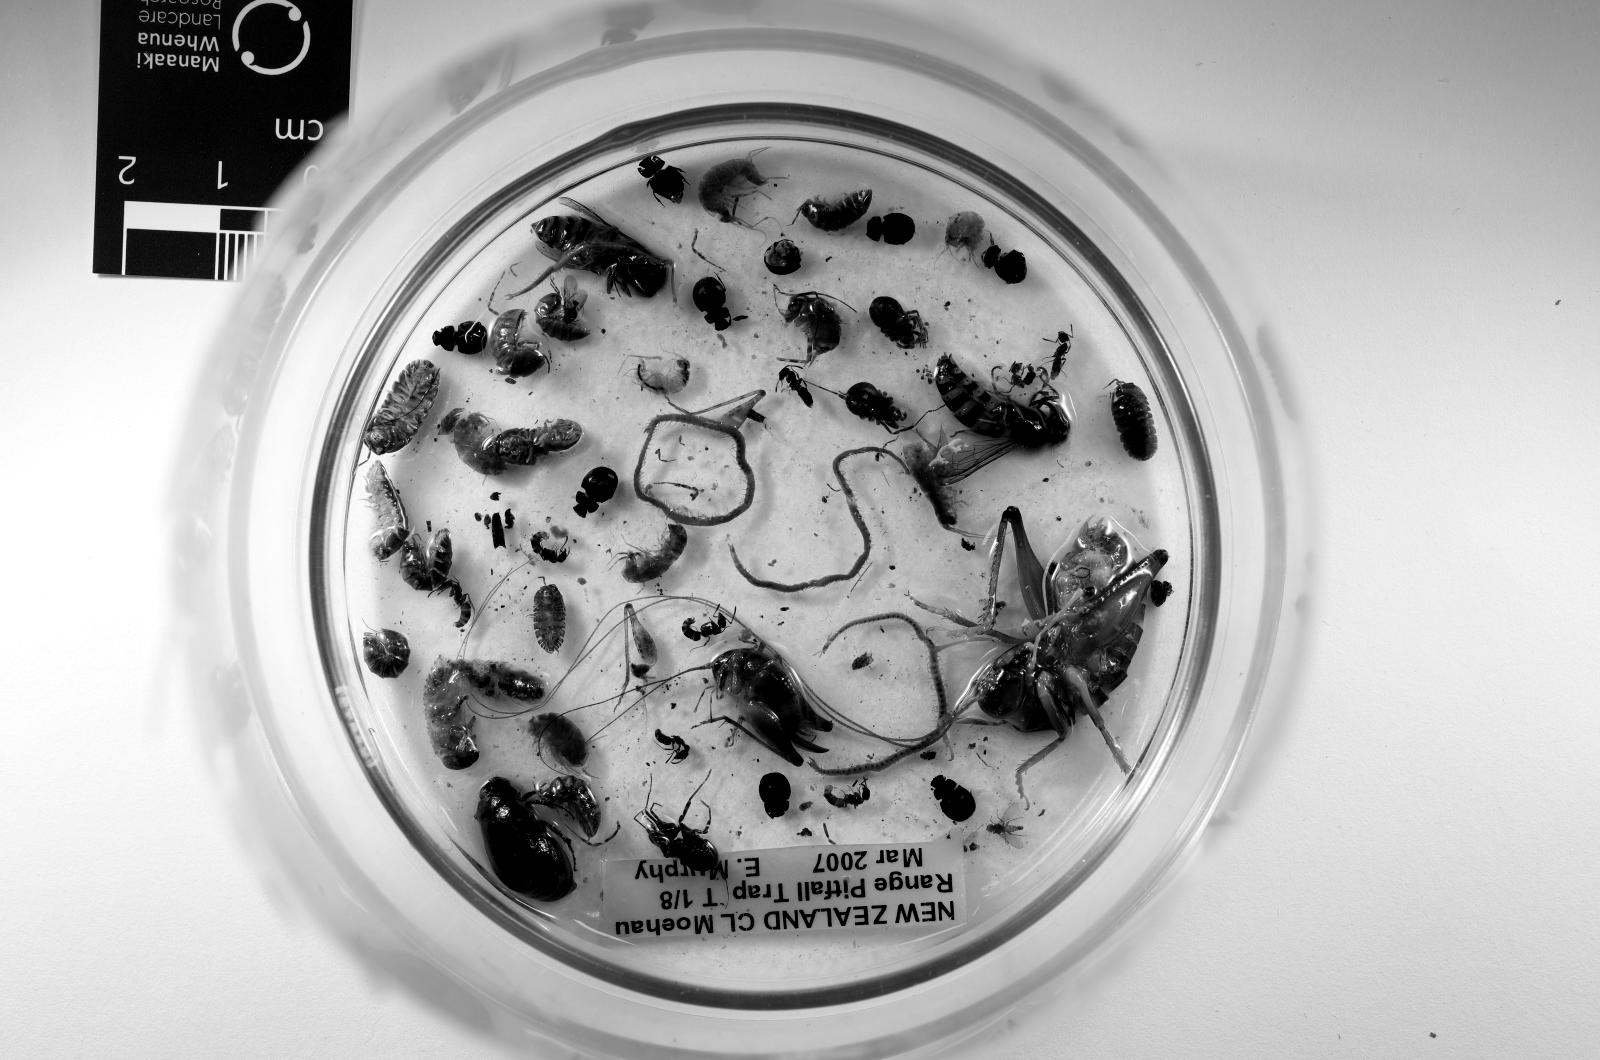acari: (800, 801, 812, 811)
amphipoda: (697, 152, 781, 230), (903, 438, 966, 534), (619, 525, 688, 584), (528, 711, 588, 770), (453, 413, 506, 475), (634, 357, 691, 394), (944, 211, 984, 258)
chilopoda: (731, 447, 909, 593), (809, 612, 950, 776), (634, 413, 756, 525)
coleoptera: (475, 776, 575, 901), (638, 155, 684, 205), (694, 276, 734, 332), (575, 466, 619, 516), (931, 776, 975, 823), (981, 245, 1028, 283), (431, 323, 488, 354), (866, 211, 916, 245), (759, 773, 791, 817), (919, 748, 938, 761)
diptera: (984, 801, 1025, 848), (562, 276, 588, 320)
formicidae: (438, 578, 472, 627), (778, 366, 812, 407), (681, 612, 728, 640), (656, 730, 691, 764), (531, 531, 569, 562), (1050, 326, 1072, 379), (825, 783, 872, 807), (1009, 363, 1038, 388)
isopoda: (366, 360, 441, 453), (525, 776, 600, 838), (366, 463, 409, 562), (494, 419, 581, 466), (491, 311, 547, 379), (1109, 382, 1156, 460), (400, 528, 453, 590), (797, 189, 872, 230), (534, 292, 588, 342), (531, 584, 566, 652), (362, 630, 409, 677)
opiliones: (634, 795, 725, 879), (869, 295, 928, 351), (844, 382, 906, 432)
orthoptera: (931, 509, 1169, 792), (700, 640, 831, 767), (781, 292, 841, 366)
vespidae: (931, 354, 1069, 481), (528, 199, 675, 298)
